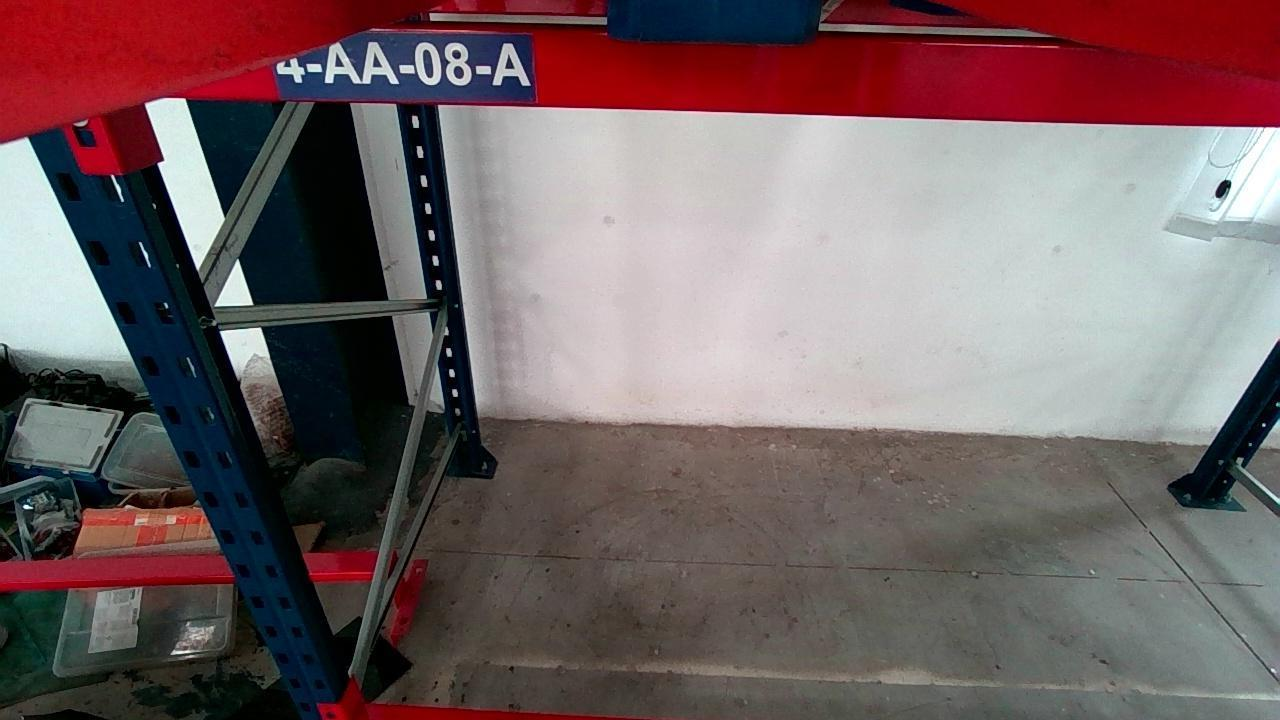h_rack: (160, 28, 1280, 118)
